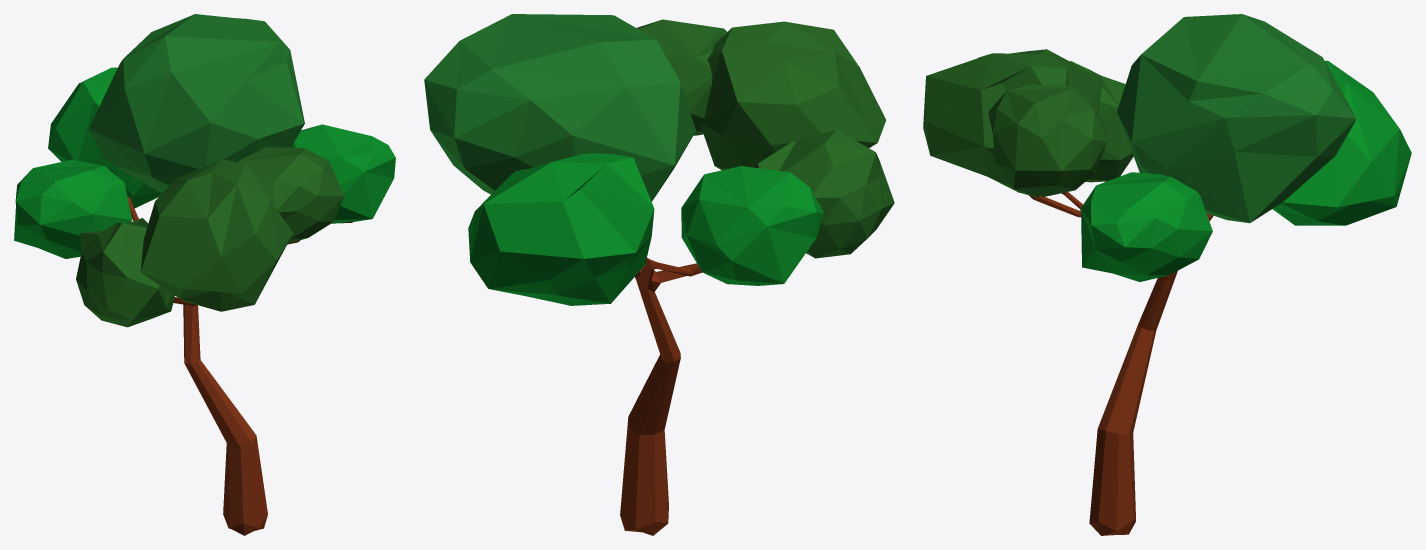
Rendered from Tree1.fbx.
The picture shows the model from 3 angles, left to right: view 1: azimuth 30°, elevation 25°; view 2: azimuth 150°, elevation 25°; view 3: azimuth 270°, elevation 25°; orthographic projection. The views are drawn at different scales.
Parts seen in each view (by area): view 1: Icosphere, Cube; view 2: Icosphere, Cube; view 3: Icosphere, Cube.
Boxes of the visible parts, left/top/right/bottom form: Icosphere: left=14, top=14, right=395, bottom=327; Cube: left=127, top=197, right=352, bottom=535; Icosphere: left=424, top=14, right=894, bottom=305; Cube: left=620, top=257, right=702, bottom=535; Icosphere: left=923, top=14, right=1411, bottom=281; Cube: left=1029, top=181, right=1213, bottom=535.
Size of the model in its own units: 423 by 545 by 474.
